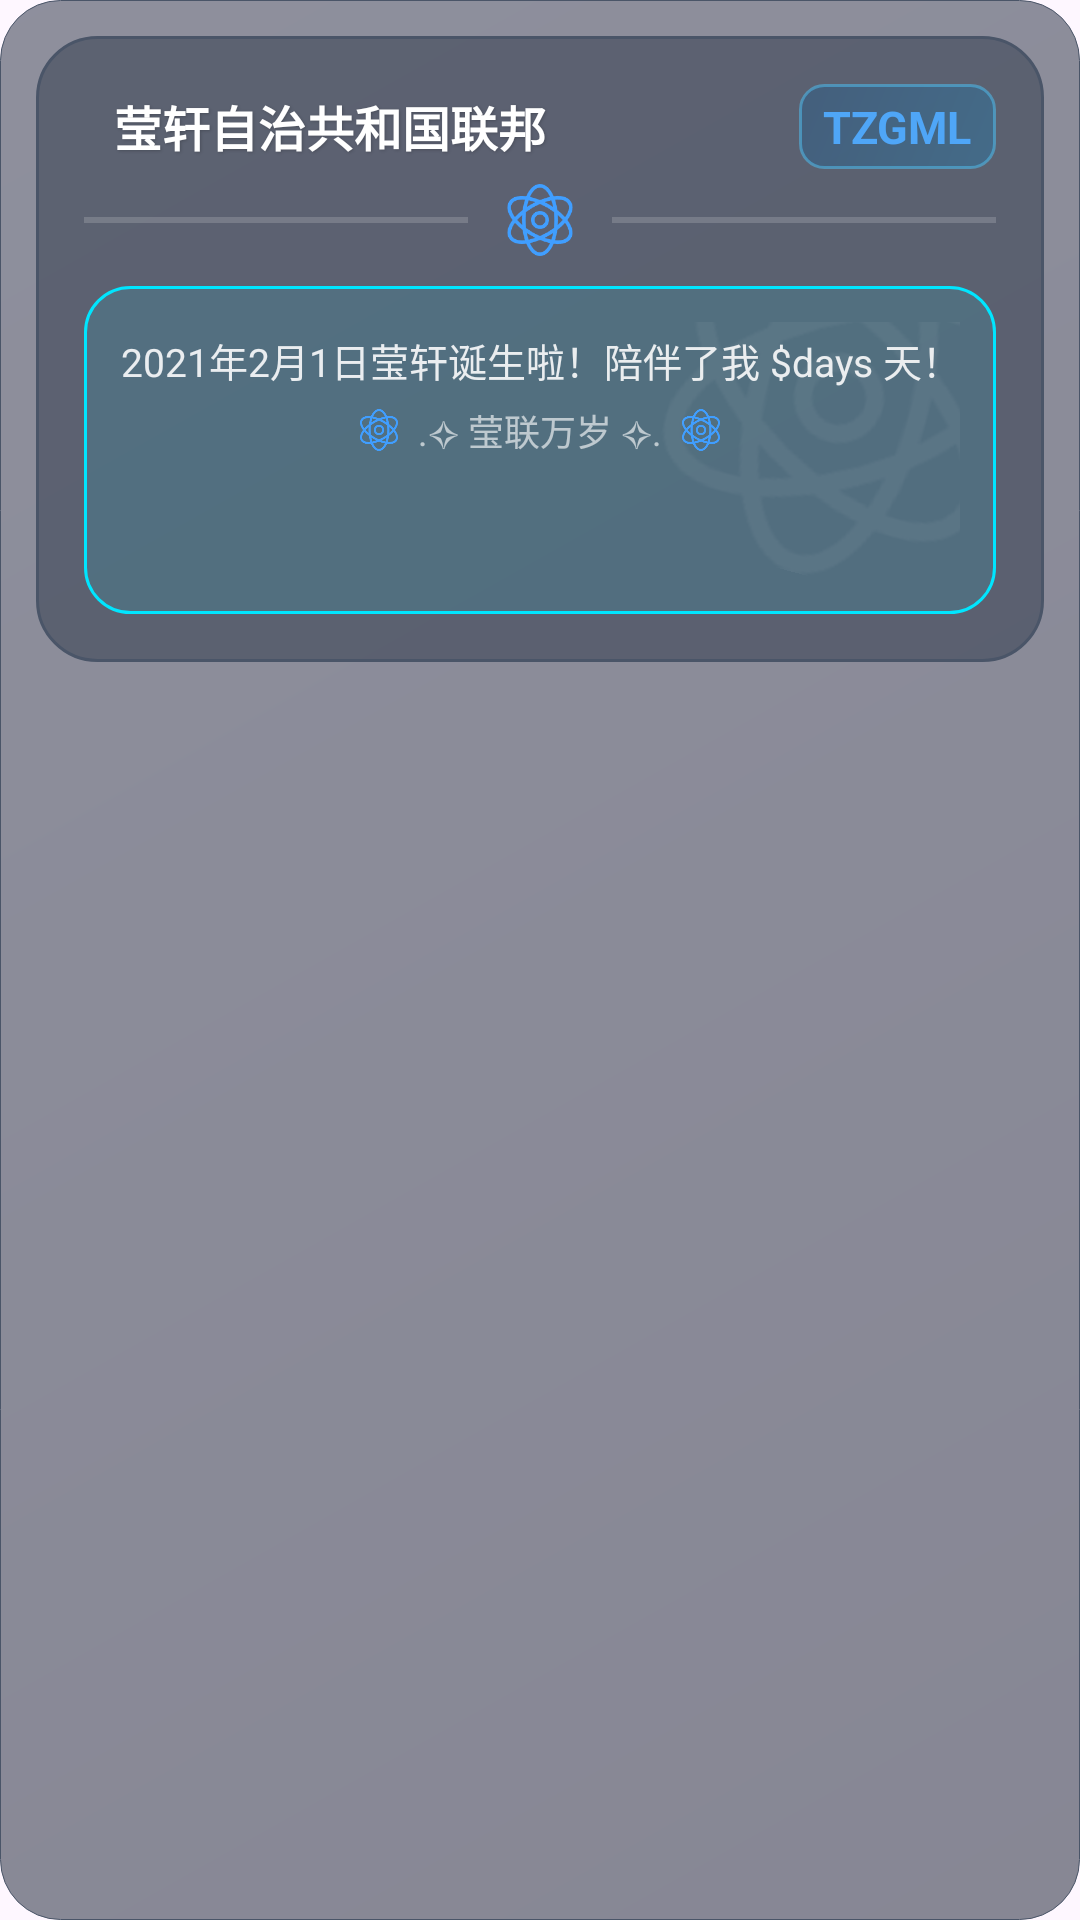

Icon click points for this 1080×1920 phone screenshot, format point (x, y):
atomic: point (540, 220), point (379, 430), point (701, 430)
